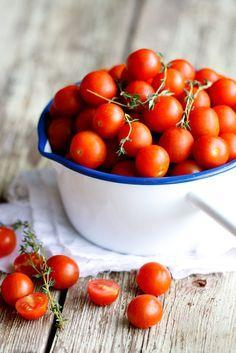healthy-tomato: (152, 158, 236, 183), (158, 61, 196, 108), (143, 95, 185, 135), (200, 105, 236, 149), (51, 82, 91, 120), (128, 295, 169, 332), (70, 132, 108, 171), (80, 71, 119, 109), (89, 105, 128, 143), (158, 127, 196, 166), (193, 136, 236, 170), (136, 263, 175, 300), (120, 122, 155, 160), (1, 274, 36, 310), (47, 117, 77, 159), (136, 146, 171, 180), (47, 255, 81, 289), (189, 105, 220, 141), (15, 292, 50, 323), (206, 77, 236, 112), (123, 80, 155, 112), (88, 279, 122, 309), (184, 83, 213, 117), (14, 251, 46, 280), (127, 50, 159, 79), (194, 68, 236, 89), (1, 227, 16, 262)
